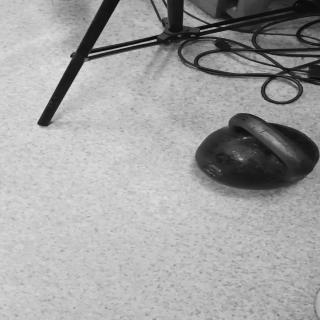girya: (199, 113, 320, 192)
